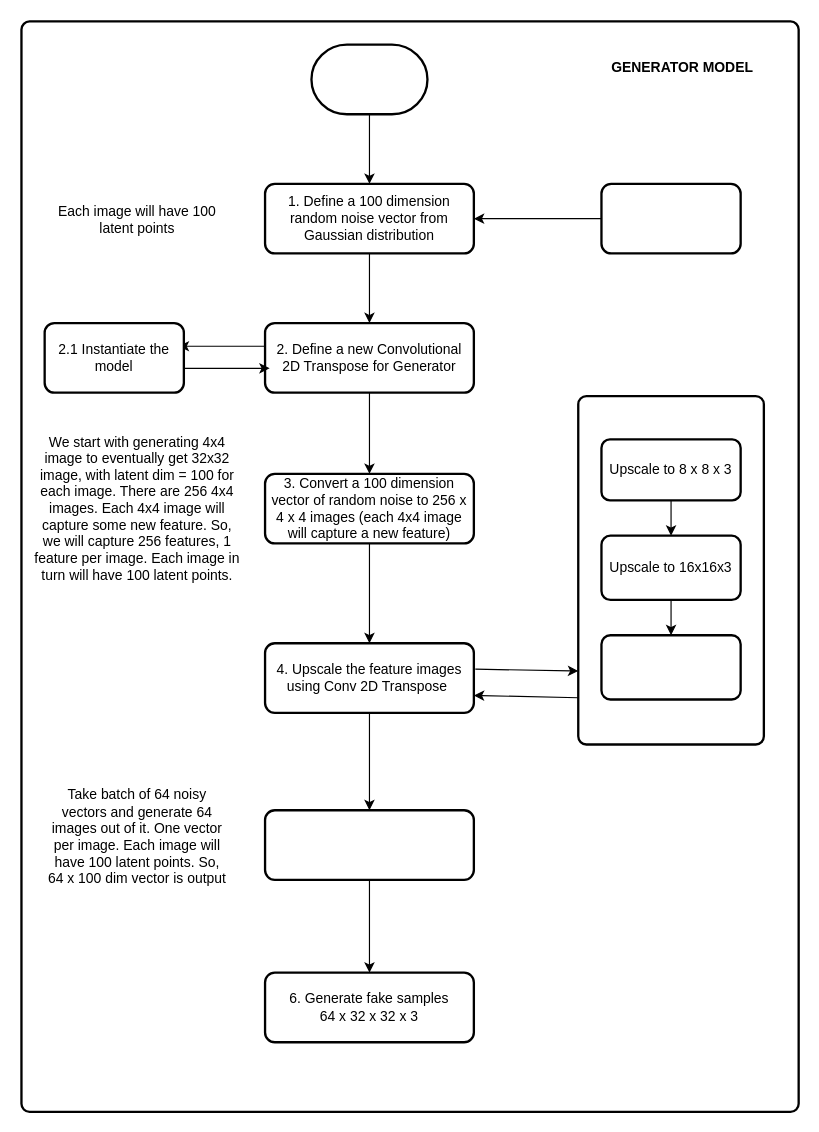
The diagram is 819 pixels wide and 1132 high, and some of its shapes have lost their labels. Each missing label, with the centre of its shape:
5. Generate latent points 64 x 100 dim vectors: the point at 368,844
Define latent dimension. (eg 100): the point at 670,218
Start: the point at 369,79
Upscale to 32x32x3: the point at 670,666
